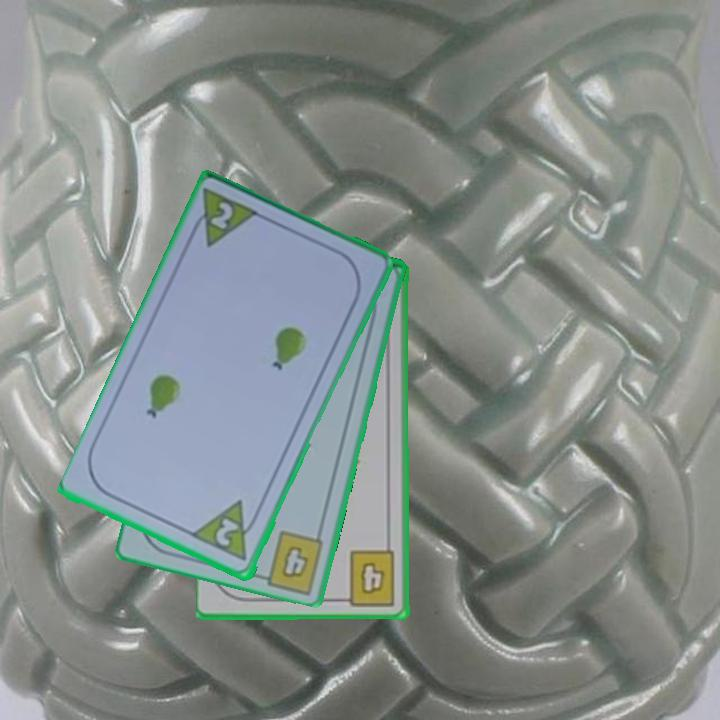2p: (184, 186, 264, 252), (190, 497, 264, 565)
4b: (336, 547, 398, 608), (278, 542, 312, 582)
